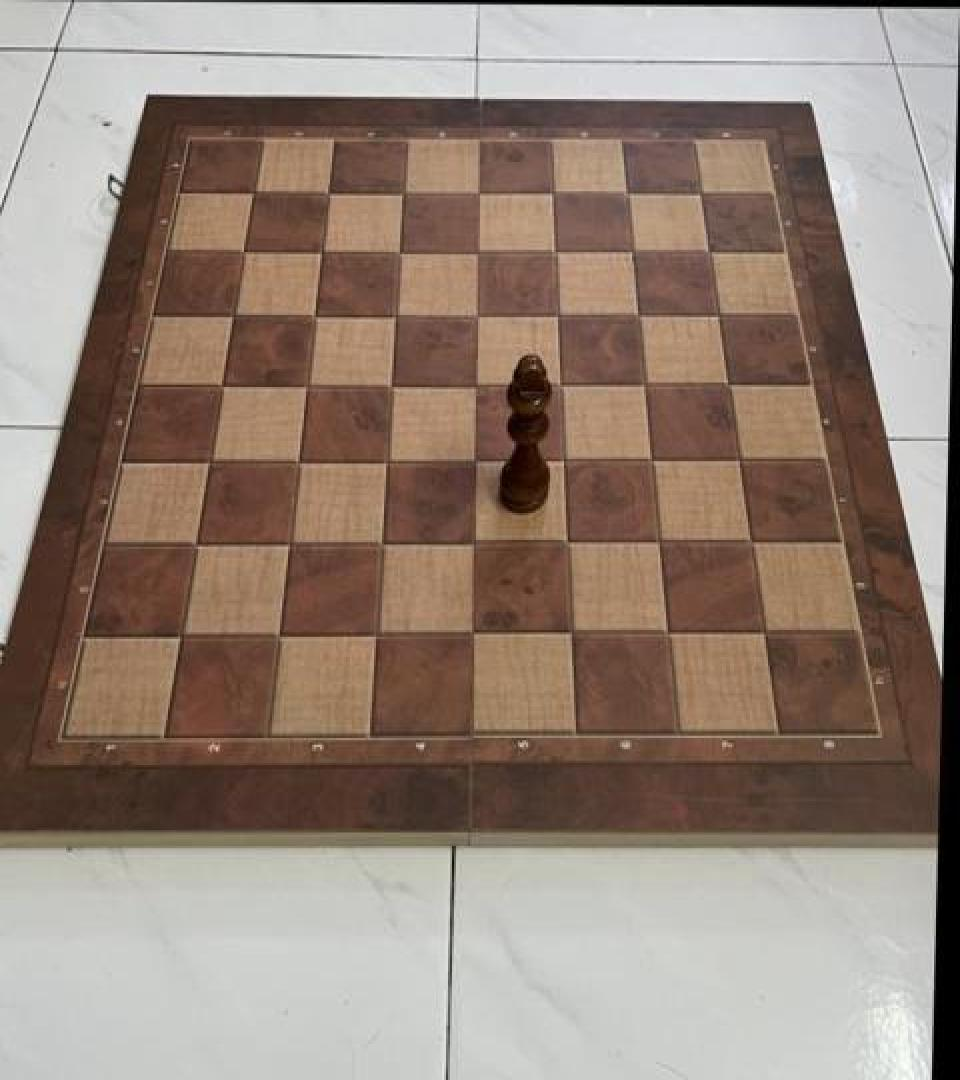xcorner: (682, 175, 716, 214), (609, 175, 643, 214), (535, 174, 569, 213), (460, 174, 494, 213), (386, 173, 420, 212), (311, 173, 345, 212), (236, 172, 270, 210), (691, 234, 725, 272), (614, 233, 648, 271), (537, 233, 571, 271), (460, 233, 494, 271), (382, 232, 416, 270), (305, 232, 339, 270), (227, 232, 261, 270), (700, 297, 734, 335), (620, 296, 654, 334), (540, 296, 574, 334), (459, 296, 493, 334), (378, 296, 412, 334), (297, 295, 331, 333), (216, 295, 250, 333), (710, 366, 744, 404), (626, 364, 660, 402), (542, 364, 576, 402), (458, 364, 492, 402), (374, 364, 408, 402), (289, 364, 323, 402), (204, 364, 238, 402), (720, 440, 754, 478), (633, 440, 667, 478), (545, 440, 579, 478), (457, 440, 491, 478), (369, 440, 403, 478), (281, 440, 315, 478), (192, 440, 226, 478), (732, 522, 766, 560), (641, 522, 675, 560), (549, 522, 583, 560), (457, 522, 491, 560), (364, 522, 398, 560), (271, 523, 305, 561), (178, 523, 212, 561), (745, 612, 779, 650), (649, 613, 683, 651), (552, 613, 586, 651), (456, 613, 490, 651), (358, 613, 392, 651), (261, 614, 295, 652), (163, 614, 197, 652)
